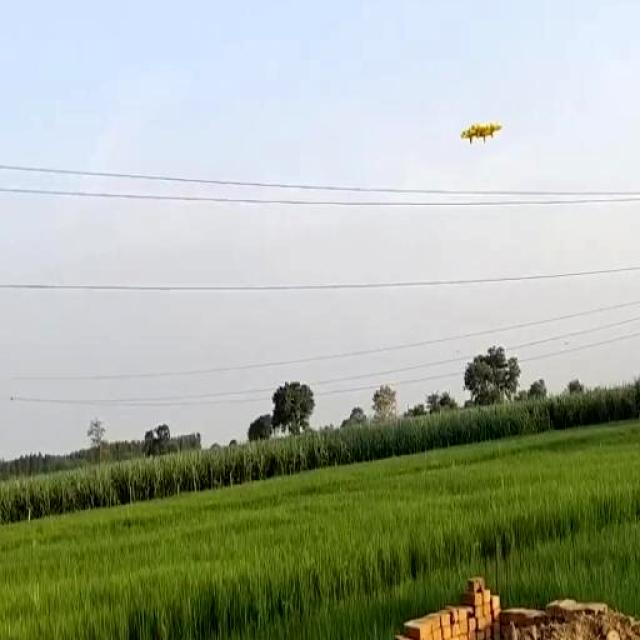bird: (455, 105, 502, 149)
